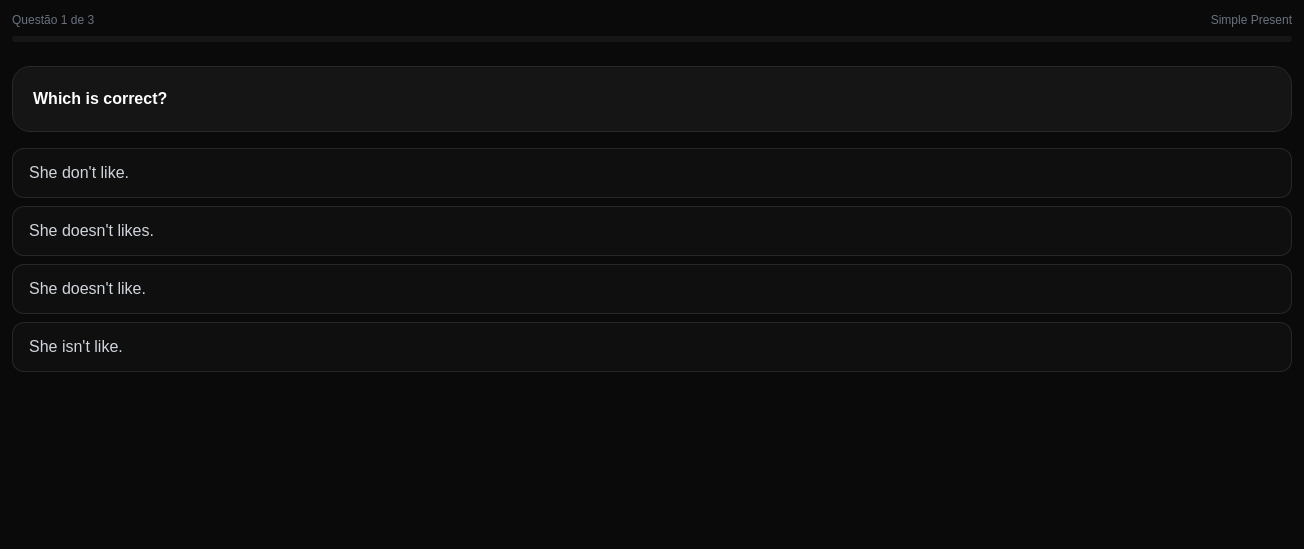
Test: QuizClient › selecionar resposta errada exibe feedback vermelho com dica
Click the button "She don't like.". click: (79, 172)
box: [12,148,1292,198]
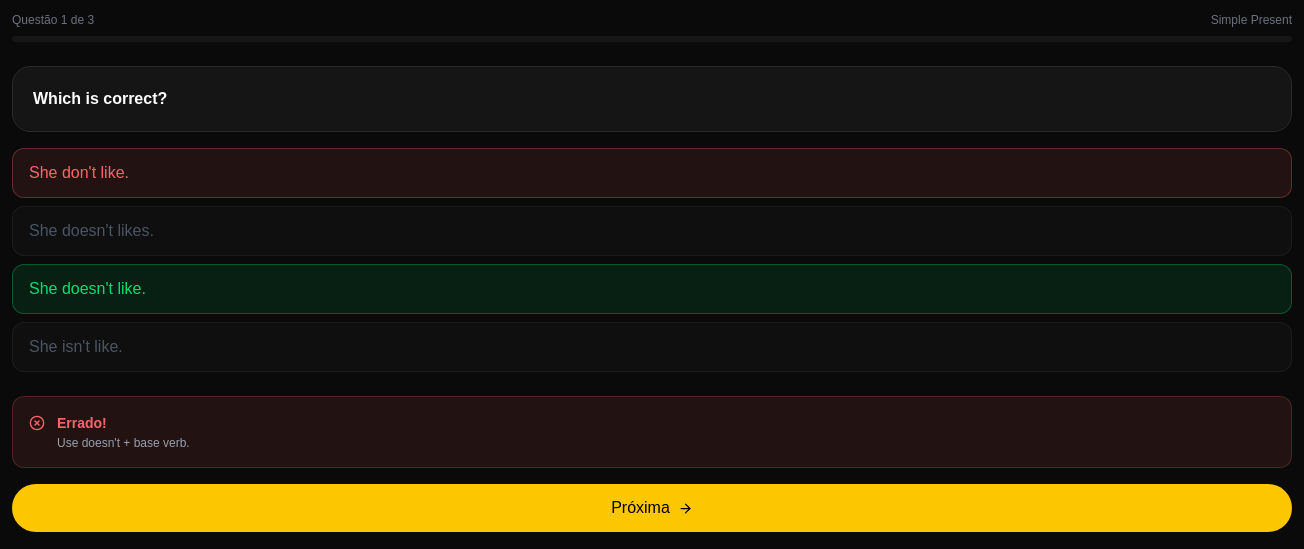
Check: the text "Errado!" is shown, box [57,415,107,431]
Check: the text "Use doesn't + base verb." is shown, box [57,435,190,451]
